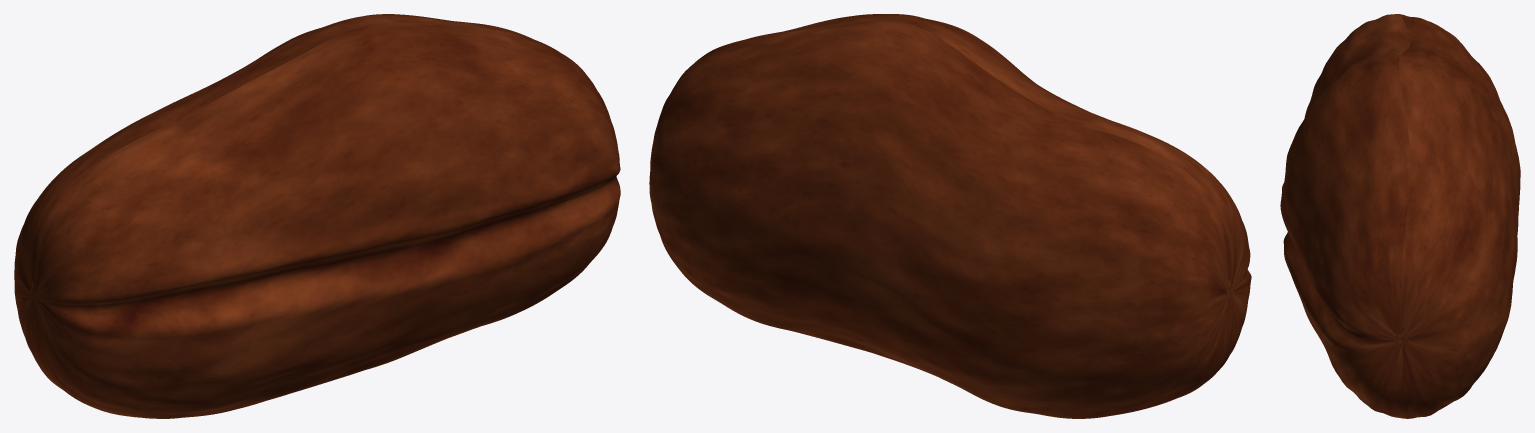
File: geisha.glb
The picture shows the model from 3 angles, left to right: view 1: azimuth 30°, elevation 25°; view 2: azimuth 150°, elevation 25°; view 3: azimuth 270°, elevation 25°; orthographic projection. The views are drawn at different scales.
Visible parts, largest first — view 1: Cafe_geisha; view 2: Cafe_geisha; view 3: Cafe_geisha.
Part boxes in pixels (x1,y1,x2,y2): Cafe_geisha: [14, 14, 620, 418]; Cafe_geisha: [649, 14, 1251, 418]; Cafe_geisha: [1280, 14, 1520, 418].
Size of the model in its own units: 0.013 by 0.00763 by 0.00533.
1 material, 1 textured.
